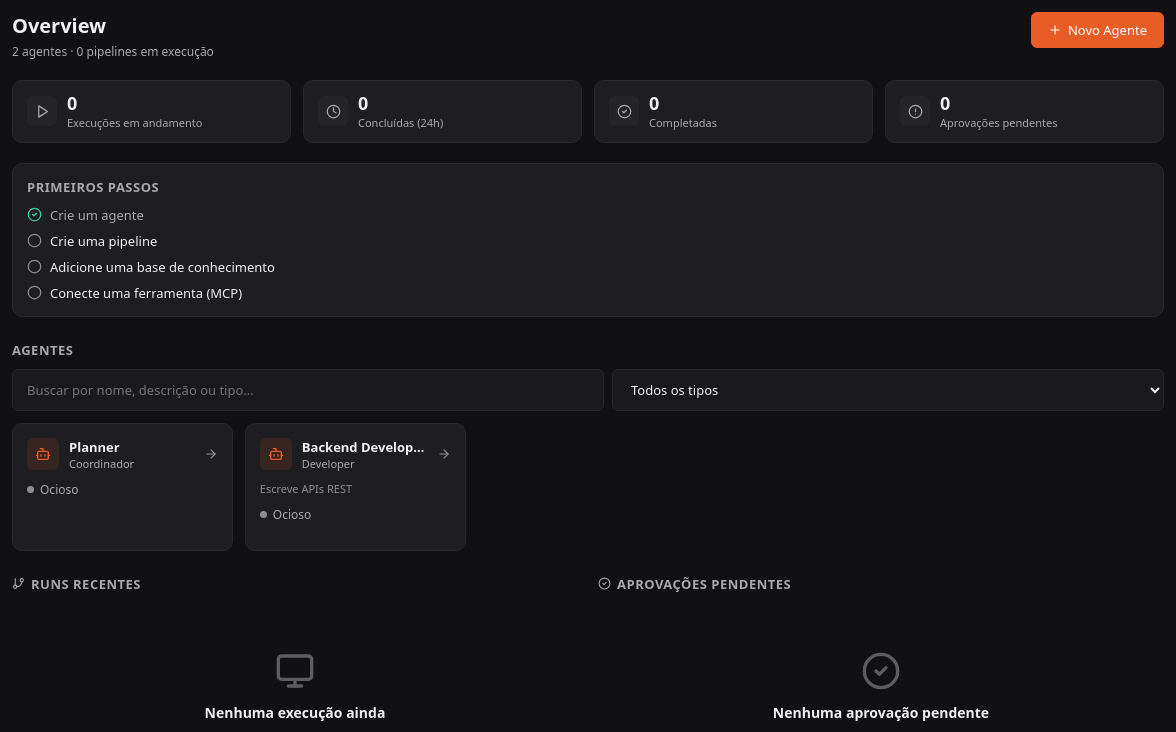
Test: DashboardPage › filters agents client-side by search term
Expected: the text "Planner" is shown, x1=69 y1=438 x2=120 y2=456
Expected: the text "Backend Developer" is shown, x1=302 y1=438 x2=427 y2=456
Type "api" into the search field labelled "Buscar por nome, descrição ou tipo" at (308, 390), box x1=12 y1=369 x2=604 y2=411
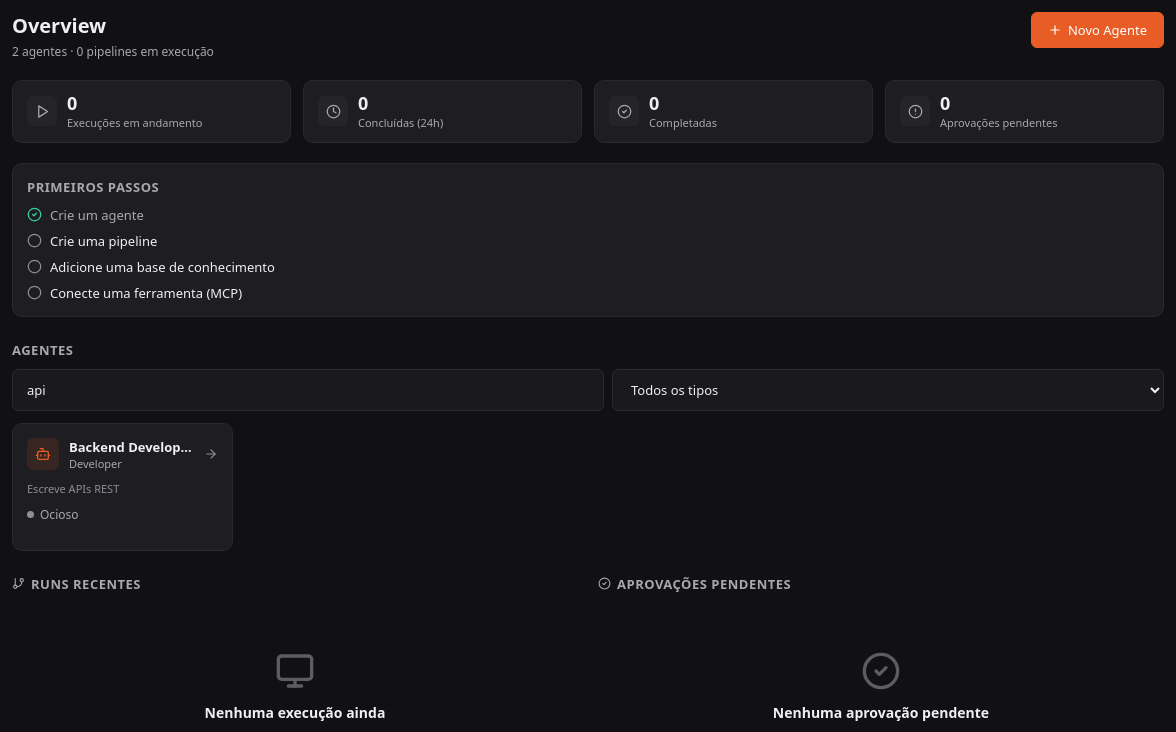
Expected: the text "Backend Developer" is shown, x1=69 y1=438 x2=194 y2=456
Now the link "Planner" is gone
